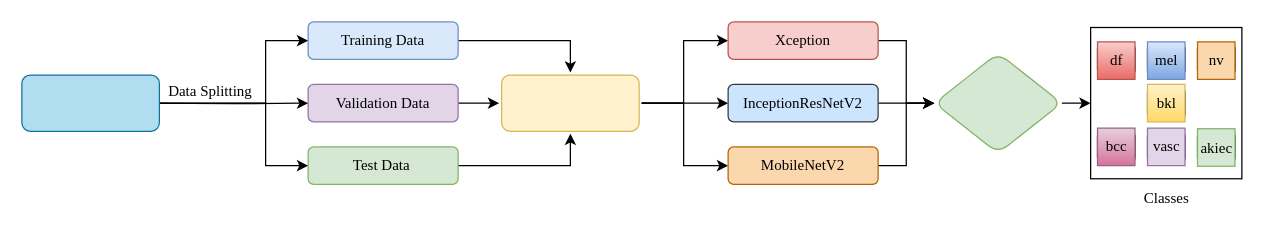
The diagram is 1264 pixels wide and 238 high, and some of its shapes have lost their labels. Here are the shapes that lost their labels. From the top down, the centre of each, then its label:
At point 90,102: "2D DermaMNIST Dataset".
At point 569,102: "Data Preprocessing".
At point 997,102: "Fuzzy Ensemble Technique".
